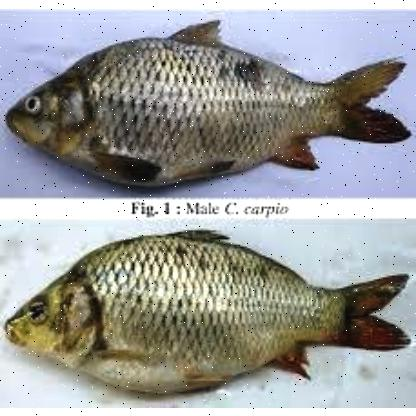ikan-mas: (5, 16, 411, 192), (8, 222, 406, 400)
